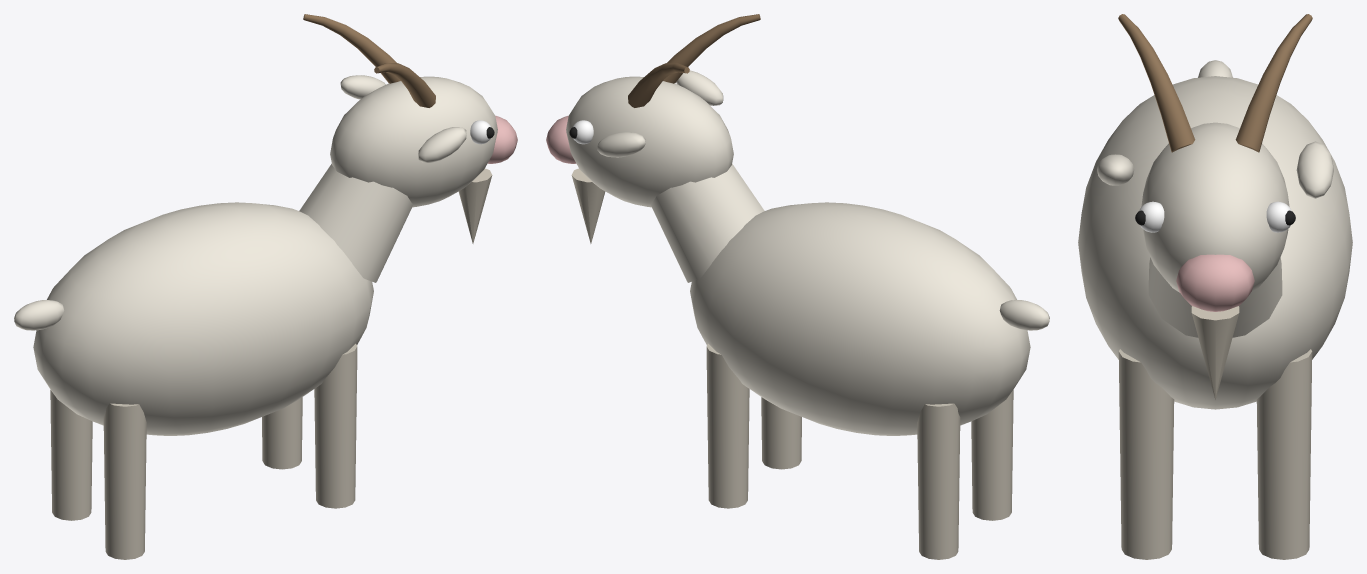
File: goat.glb
The picture shows the model from 3 angles, left to right: view 1: azimuth 30°, elevation 25°; view 2: azimuth 150°, elevation 25°; view 3: azimuth 270°, elevation 25°; orthographic projection. The views are drawn at different scales.
Visible parts, largest first — view 1: goat; view 2: goat; view 3: goat.
Part boxes in pixels (<box>): goat: <box>14,14,517,559</box>; goat: <box>546,14,1049,559</box>; goat: <box>1078,14,1352,559</box>.
Size of the model in its own units: 2.37 by 1.96 by 0.88.
